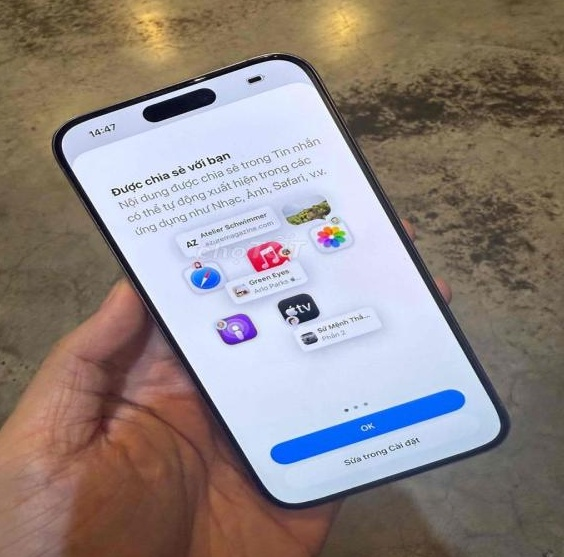scratch: (245, 50, 286, 60), (186, 73, 207, 82)
